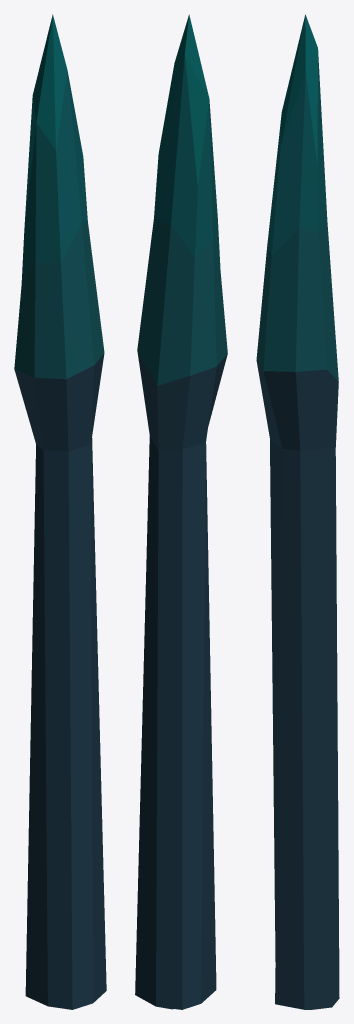
File: Rock_5.fbx
The picture shows the model from 3 angles, left to right: view 1: azimuth 30°, elevation 25°; view 2: azimuth 210°, elevation 25°; view 3: azimuth 330°, elevation 25°; orthographic projection.
Visible parts, largest first — view 1: Rock_5; view 2: Rock_5; view 3: Rock_5.
Part boxes in pixels (x1,y1,x2,y2): Rock_5: (14,14,106,1009); Rock_5: (135,14,227,1009); Rock_5: (256,14,339,1009).
Bounding box in the file's own units: 8.69 × 106 × 8.03.
